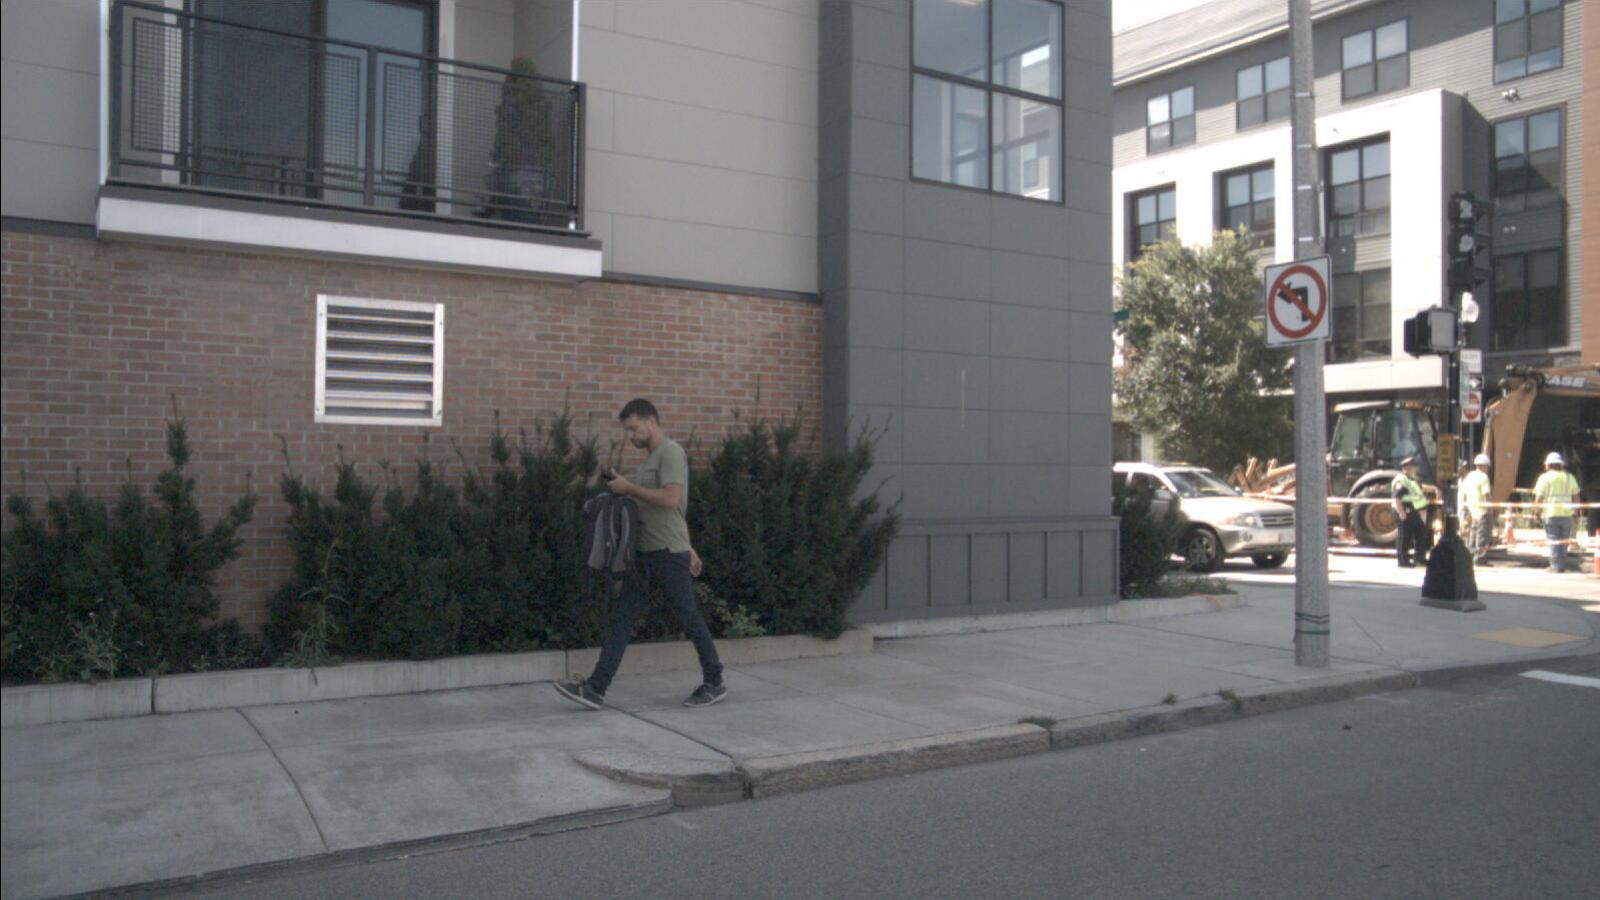human.pedestrian.adult-pedestrian.moving: (551, 398, 729, 711)
human.pedestrian.construction_worker-pedestrian.standing: (1531, 452, 1581, 574), (1462, 453, 1495, 567)
human.pedestrian.police_officer-pedestrian.standing: (1390, 457, 1432, 569)
